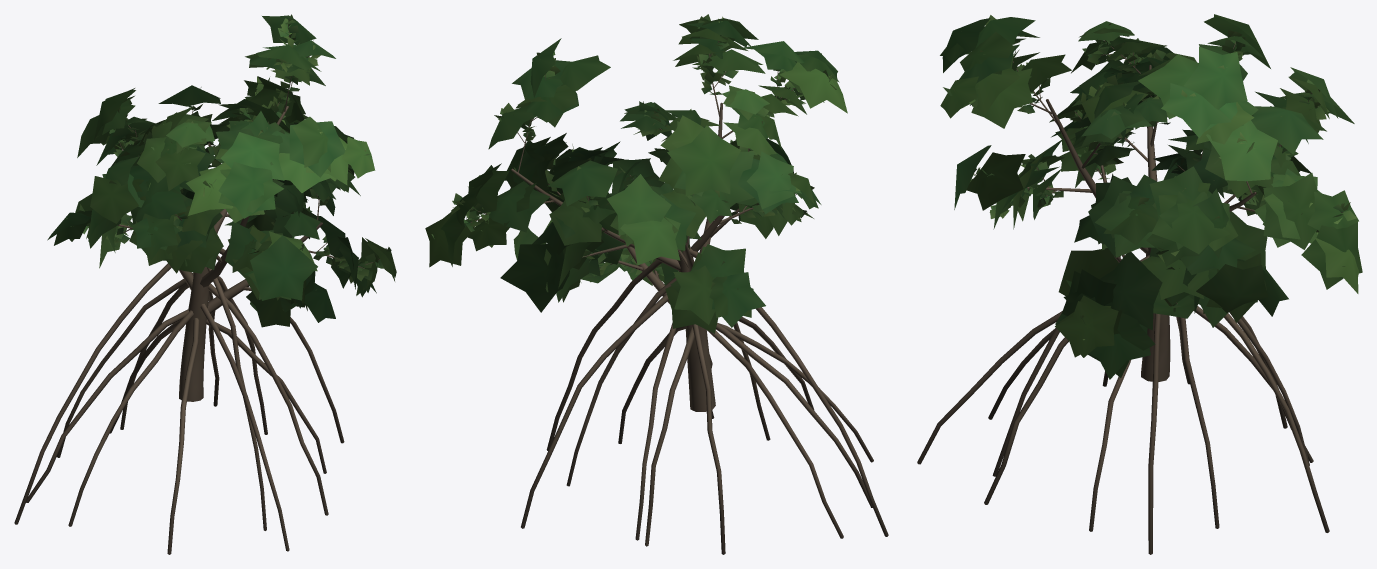
File: mangrove-b.lod0.glb
3 renders of one model, left to right at view 1: azimuth 30°, elevation 25°; view 2: azimuth 150°, elevation 25°; view 3: azimuth 270°, elevation 25°, orthographic. The views are drawn at different scales.
Bounding box in the file's own units: 6.05 × 6.66 × 5.42.
